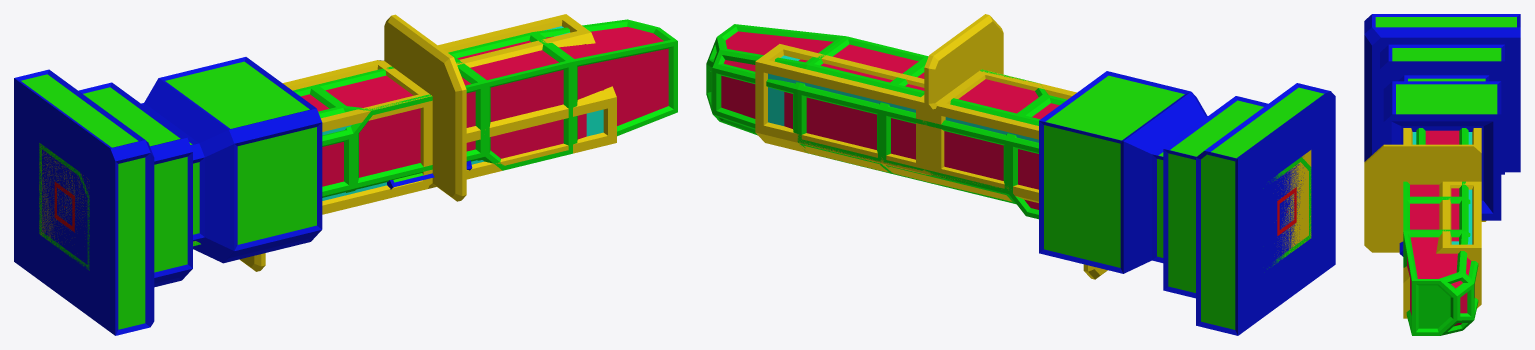
Rendered from SkyScrapers.fbx.
The picture shows the model from 3 angles, left to right: view 1: azimuth 30°, elevation 25°; view 2: azimuth 150°, elevation 25°; view 3: azimuth 270°, elevation 25°; orthographic projection. The views are drawn at different scales.
Visible parts, largest first — view 1: SkyScraper3, SkyScraper2, SkyScraper4; view 2: SkyScraper3, SkyScraper2, SkyScraper4; view 3: SkyScraper3, SkyScraper4, SkyScraper2.
Part boxes in pixels (x1,y1,x2,y2): SkyScraper3: [14, 57, 472, 335]; SkyScraper2: [39, 19, 677, 270]; SkyScraper4: [39, 14, 616, 271]; SkyScraper3: [1039, 71, 1335, 335]; SkyScraper2: [706, 24, 1311, 269]; SkyScraper4: [755, 14, 1311, 279]; SkyScraper3: [1364, 14, 1520, 256]; SkyScraper4: [1364, 128, 1486, 318]; SkyScraper2: [1403, 128, 1478, 335].
Bounding box in the file's own units: 67595 × 20000 × 20000.
